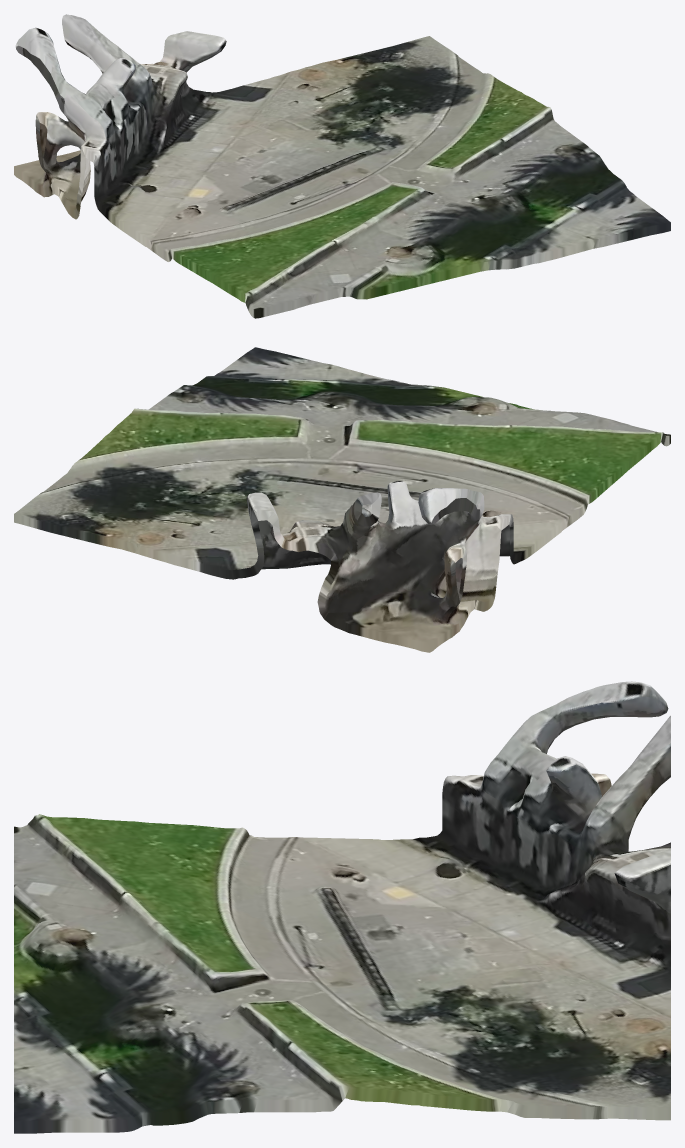
The model's file is z20-167786-405220-h0-yup-uvflip-v3-world.glb.
3 views of the same model, one above another, from view 1: azimuth 30°, elevation 25°; view 2: azimuth 150°, elevation 25°; view 3: azimuth 270°, elevation 25° (orthographic). The views are drawn at different scales.
Bounding box in the file's own units: 30.16 × 10.64 × 30.32.
1 material, 1 textured.
